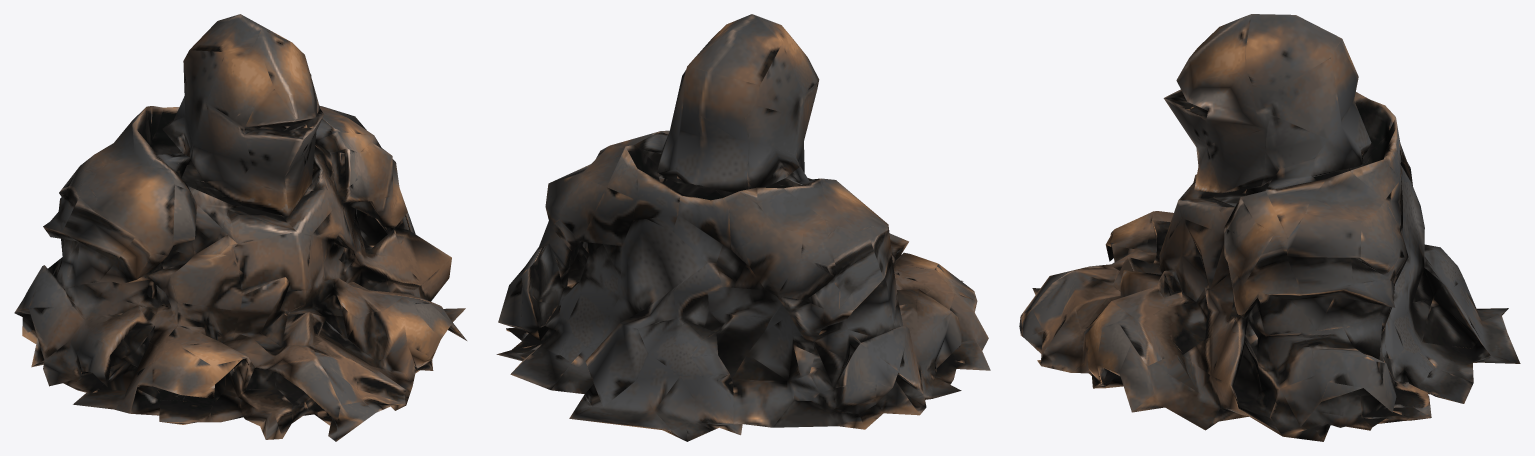
Rendered from rusted_armor_pile.glb.
3 views of the same model, side by side, from view 1: azimuth 30°, elevation 25°; view 2: azimuth 150°, elevation 25°; view 3: azimuth 270°, elevation 25° (orthographic). The views are drawn at different scales.
Size of the model in its own units: 1.96 by 1.47 by 1.97.
1 material, 1 textured.
